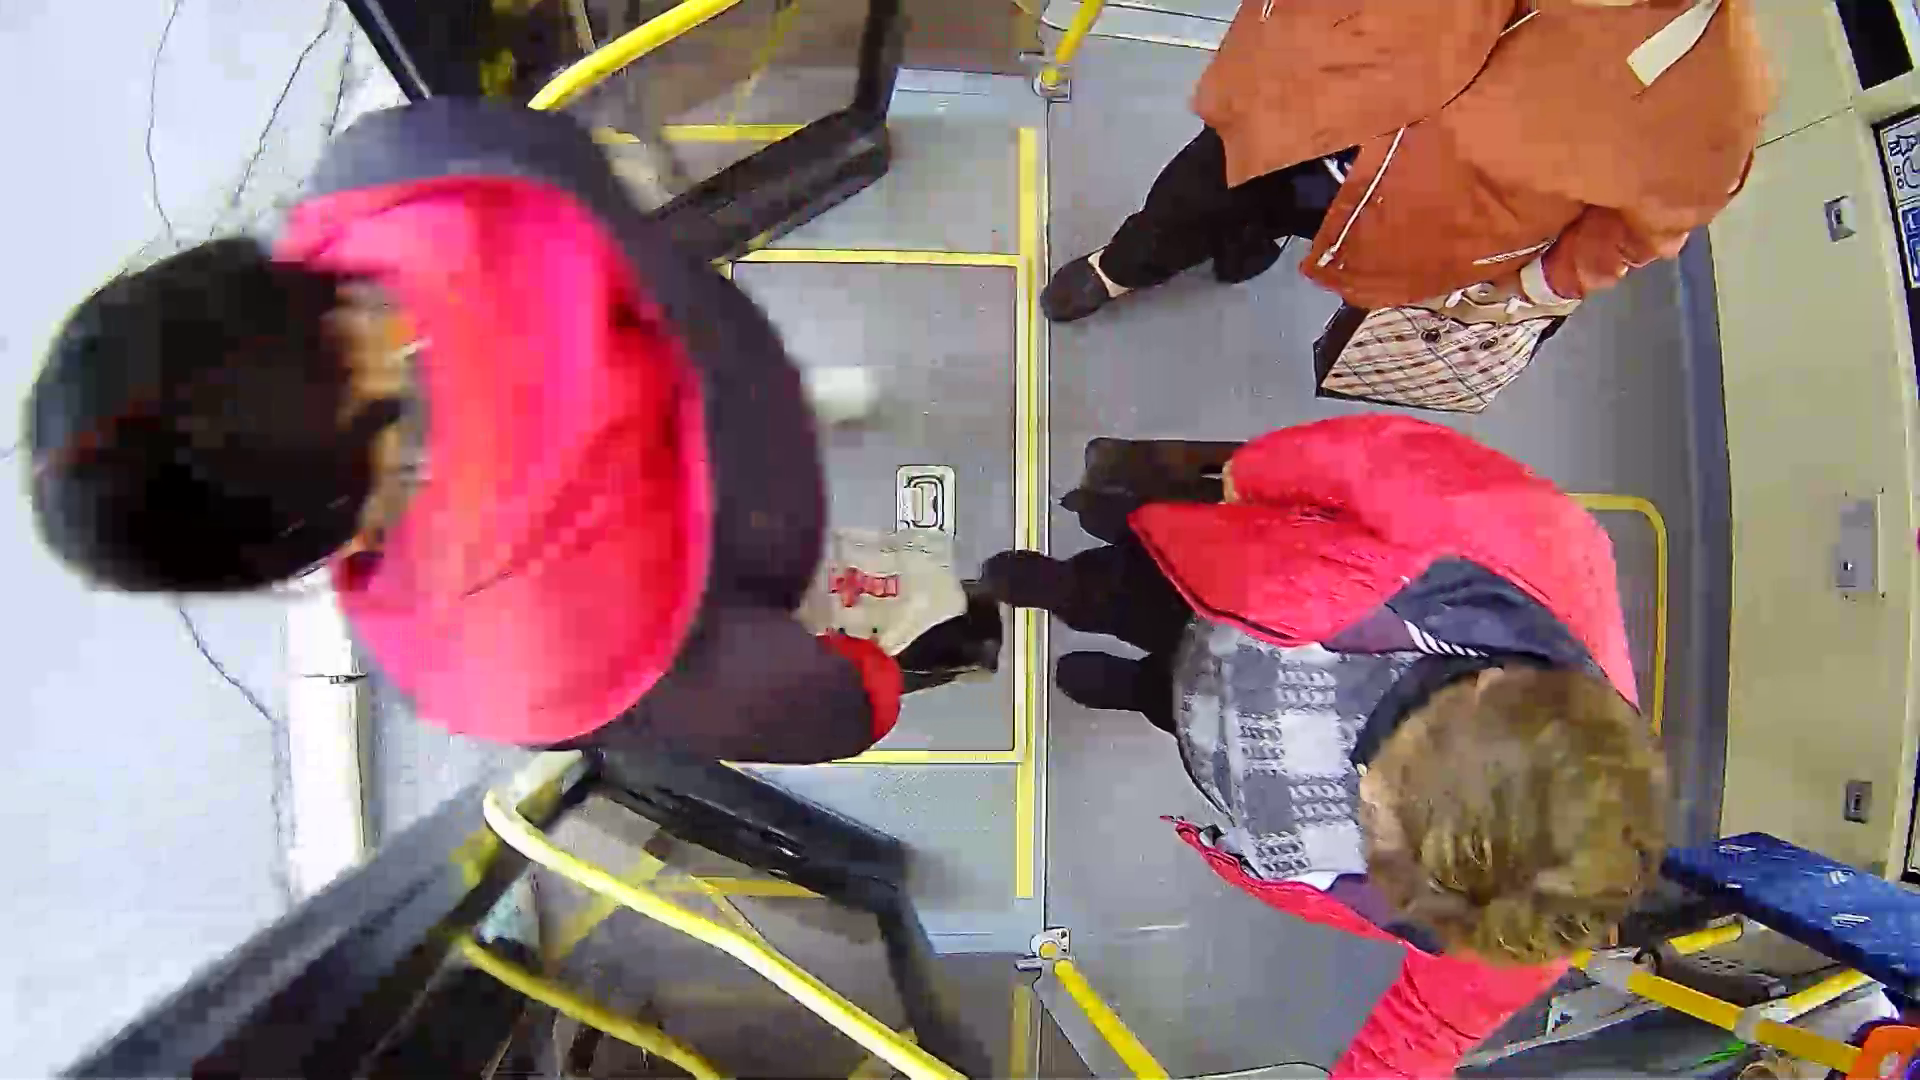person: (69, 113, 895, 783), (960, 433, 1780, 1018)
